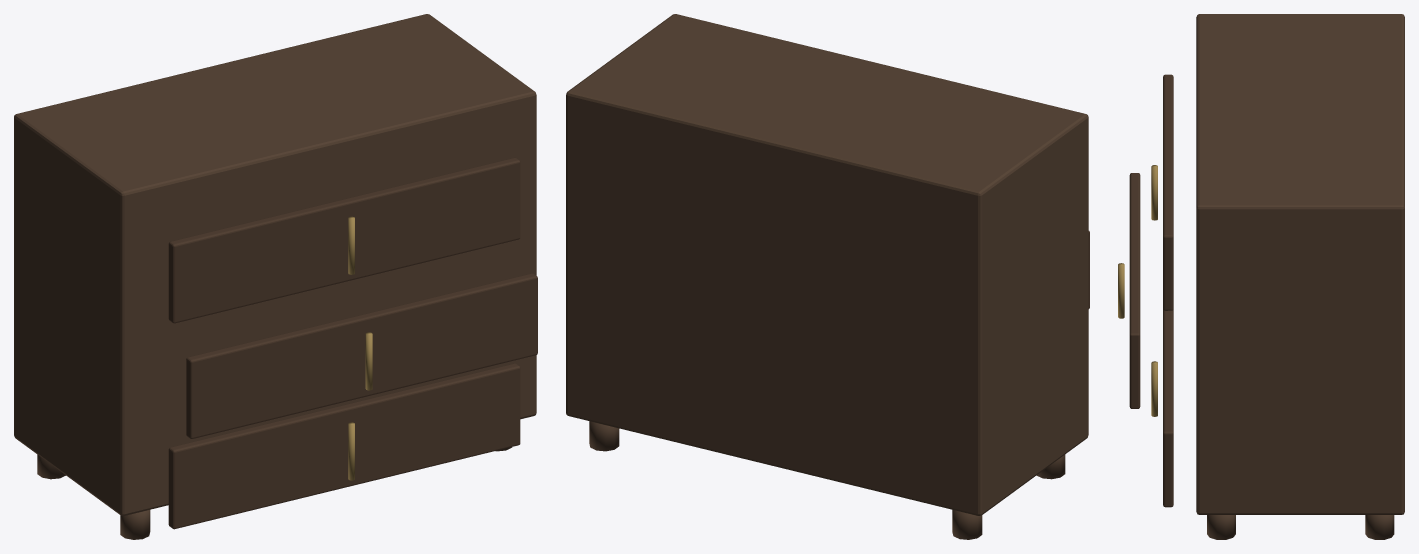
Rendered from dresser.glb.
3 views of the same model, side by side, from view 1: azimuth 30°, elevation 25°; view 2: azimuth 150°, elevation 25°; view 3: azimuth 270°, elevation 25° (orthographic). The views are drawn at different scales.
Visible parts, largest first — view 1: body, drawerBottom, drawerTop, drawerMid, foot; view 2: body, foot.002, foot.003; view 3: body, drawerMid, drawerTop, drawerBottom, foot.003, foot.001, drawerBottomHandle, drawerTopHandle, drawerMidHandle.
Boxes of the visible parts, box(x1,y1,x2,y2) form: body: box(14, 14, 536, 515); drawerBottom: box(168, 363, 520, 529); drawerTop: box(168, 157, 520, 323); drawerMid: box(186, 273, 537, 438); foot: box(120, 510, 150, 539); body: box(566, 14, 1088, 515); foot.002: box(952, 510, 982, 539); foot.003: box(589, 421, 619, 451); body: box(1196, 14, 1404, 514); drawerMid: box(1129, 173, 1140, 408); drawerTop: box(1163, 74, 1173, 310); drawerBottom: box(1163, 309, 1173, 507); foot.003: box(1365, 515, 1394, 539); foot.001: box(1207, 515, 1235, 539); drawerBottomHandle: box(1151, 361, 1157, 416); drawerTopHandle: box(1151, 165, 1157, 220); drawerMidHandle: box(1118, 263, 1124, 318).
Bounding box in the file's own units: 1.1 × 0.9 × 0.688.
